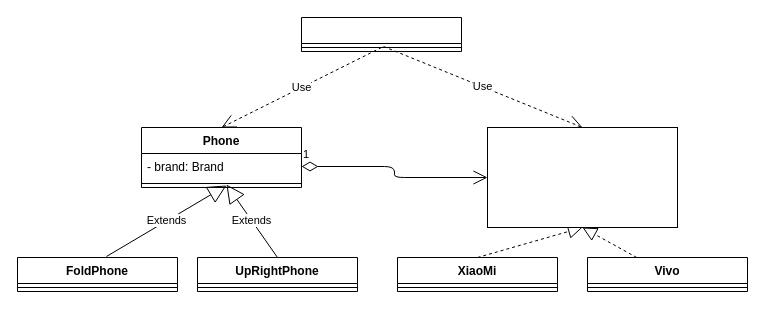
Some shapes in this 765 by 309 pixel diagram are drawn without their labels. Here are the shapes that lost their labels. From the top down, the centre of each, then its label:
At (381,34): "Client".
At (582,177): "<<Interface>> Brand + call(): void".
